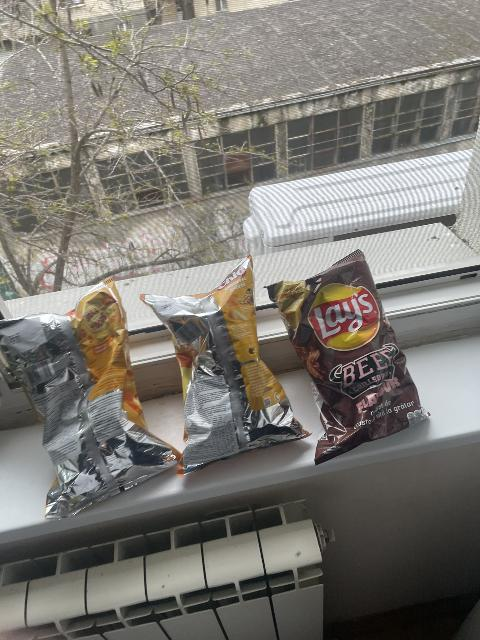Chio Cascaval 125g: (141, 253, 309, 475)
Chio Hula Hoops Cheese 70g: (2, 273, 184, 518)
Lays Beef Grilled Ribs 125g: (261, 249, 430, 465)
